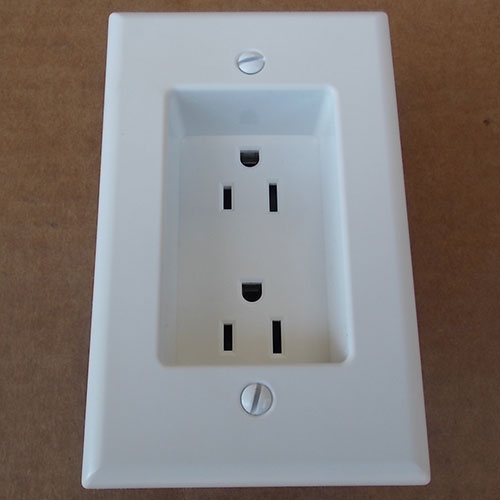outlet: (214, 277, 293, 359), (212, 140, 289, 218)
